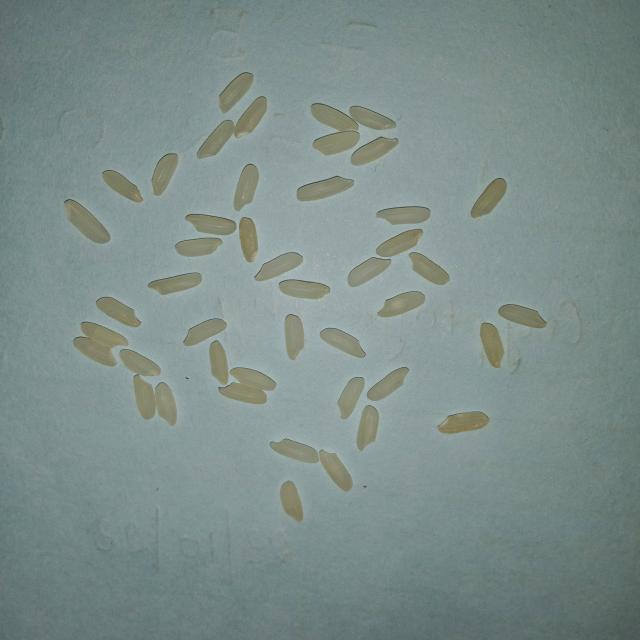Full: (63, 199, 111, 244), (197, 120, 235, 159), (254, 252, 304, 281), (219, 73, 254, 114), (234, 96, 268, 138), (367, 367, 409, 401), (297, 176, 354, 201), (471, 178, 506, 218), (409, 252, 450, 286), (319, 450, 353, 491), (320, 328, 366, 358), (348, 257, 392, 288), (351, 137, 398, 166), (102, 170, 143, 203), (96, 297, 141, 327), (311, 104, 359, 132), (376, 229, 424, 257), (74, 336, 118, 366), (270, 438, 320, 464), (233, 164, 260, 211), (81, 322, 129, 348), (183, 318, 227, 346), (498, 304, 547, 329), (378, 292, 425, 318), (148, 273, 202, 295), (119, 349, 161, 377), (438, 411, 489, 434), (152, 154, 179, 196), (349, 106, 396, 130), (338, 377, 364, 420), (230, 367, 276, 391), (480, 323, 504, 368), (186, 214, 237, 235), (219, 382, 267, 404), (376, 206, 430, 225), (357, 406, 379, 452), (134, 374, 156, 420), (280, 480, 304, 522), (279, 280, 330, 299), (156, 382, 178, 426), (175, 238, 223, 257), (209, 341, 229, 385), (239, 217, 258, 263), (285, 314, 304, 360)
